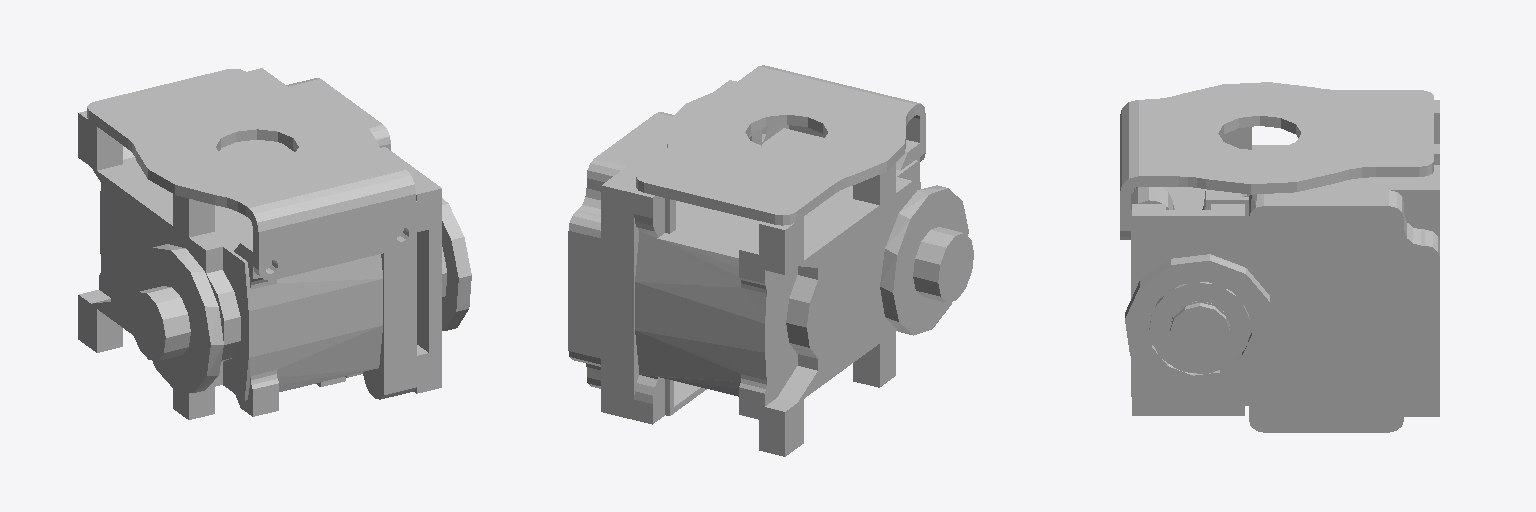
Rendered from Elbow_Bracket_01_1__1_mesh.obj.
The picture shows the model from 3 angles: view 1: azimuth 30°, elevation 25°; view 2: azimuth 150°, elevation 25°; view 3: azimuth 270°, elevation 25°; orthographic projection.
Parts seen in each view (by area): view 1: Body14, Body23, Body13, Body16, Body22, Body20; view 2: Body14, Body23, Body13, Body22; view 3: Body22, Body23, Body16, Body20, Body15, Body14.
Boxes of the visible parts, x1=… form: Body14: x1=78, y1=70, x2=409, y2=419; Body23: x1=87, y1=69, x2=415, y2=280; Body13: x1=130, y1=244, x2=223, y2=392; Body16: x1=380, y1=147, x2=441, y2=393; Body22: x1=256, y1=68, x2=416, y2=392; Body20: x1=442, y1=198, x2=471, y2=330; Body14: x1=608, y1=125, x2=920, y2=456; Body23: x1=636, y1=65, x2=925, y2=225; Body13: x1=880, y1=185, x2=973, y2=335; Body22: x1=568, y1=112, x2=673, y2=413; Body22: x1=1131, y1=187, x2=1439, y2=432; Body23: x1=1120, y1=82, x2=1433, y2=239; Body16: x1=1132, y1=204, x2=1244, y2=415; Body20: x1=1125, y1=254, x2=1274, y2=396; Body15: x1=1149, y1=282, x2=1250, y2=373; Body14: x1=1131, y1=100, x2=1439, y2=209.
Bounding box in the file's own units: 0.0451 × 0.0345 × 0.0423.